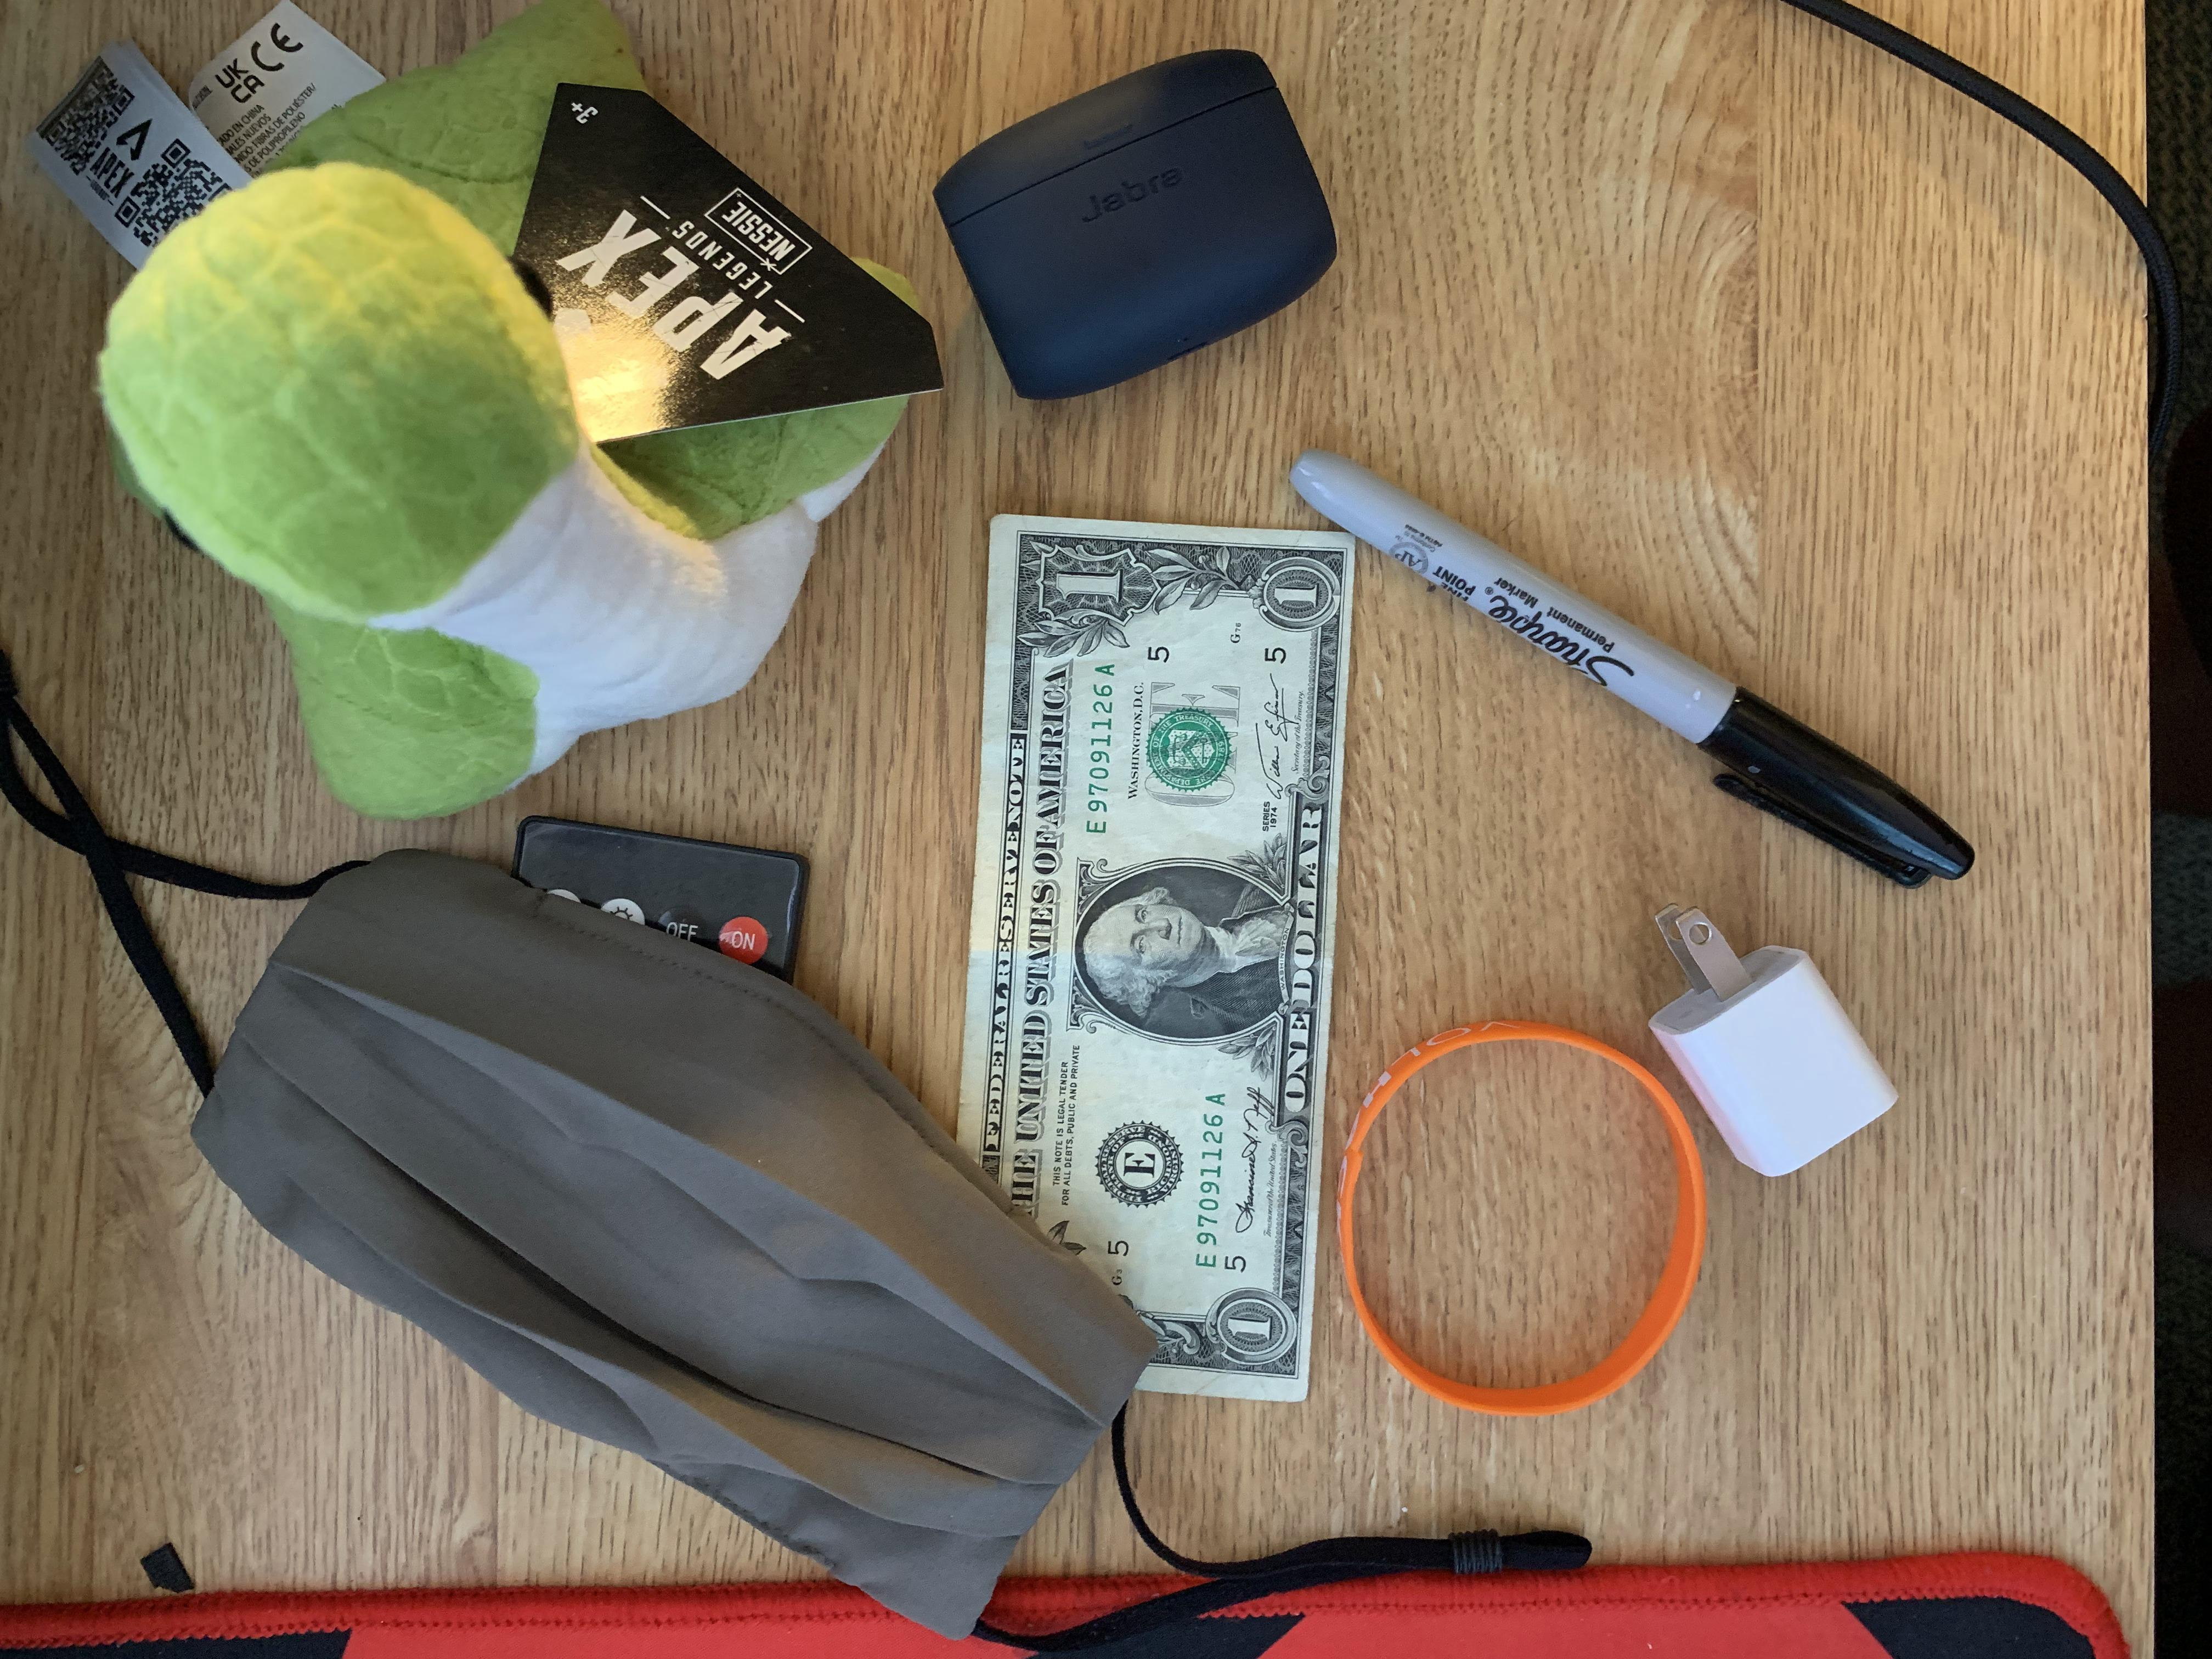OneBill: (928, 509, 1374, 1405)
